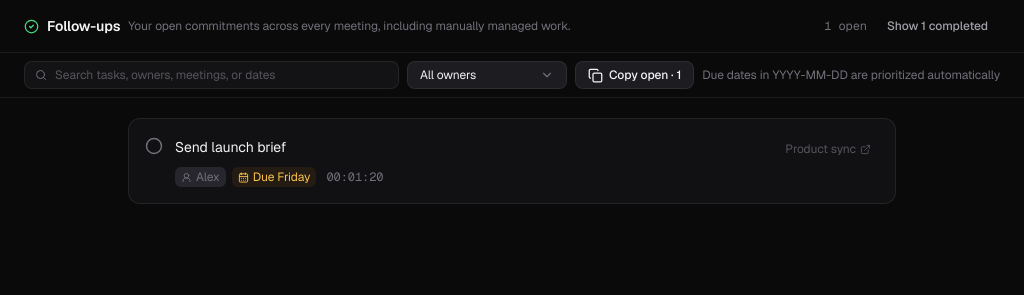
Test: MeetingFollowUps › shows open work by default and can reveal completed history
Expected: the text "Send launch brief" is shown, [175,138,286,156]
Expected: the text "Confirm support coverage" is not shown
Click the button "Show 1 completed": (938, 26) [875,12,1000,40]
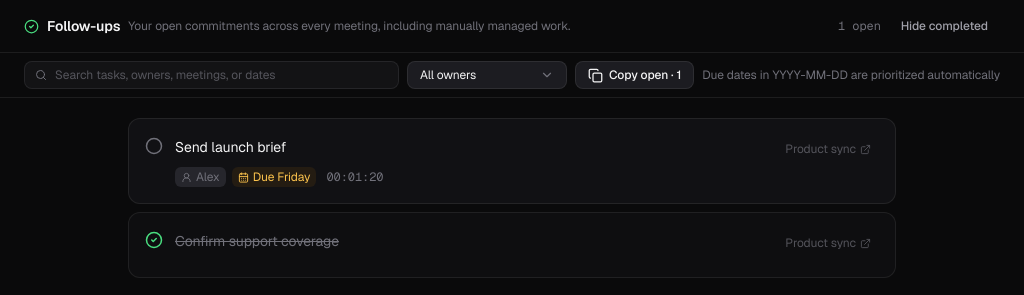
Expected: the text "Confirm support coverage" is shown, [175,232,339,250]
